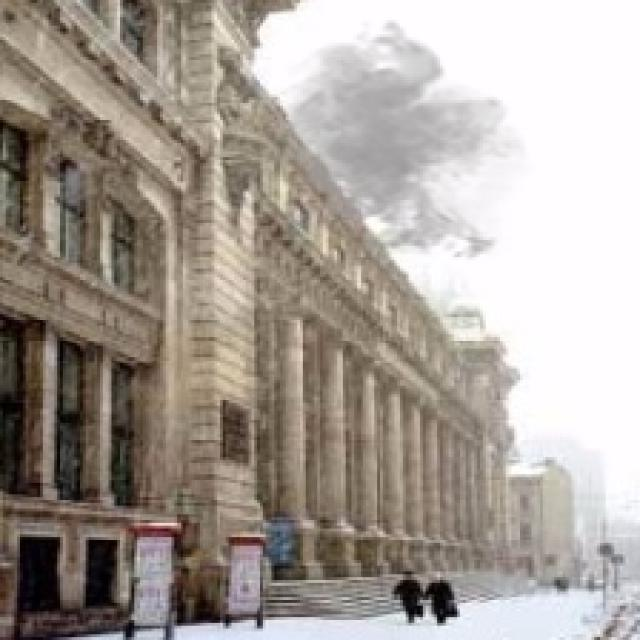smoke: (272, 17, 534, 266)
